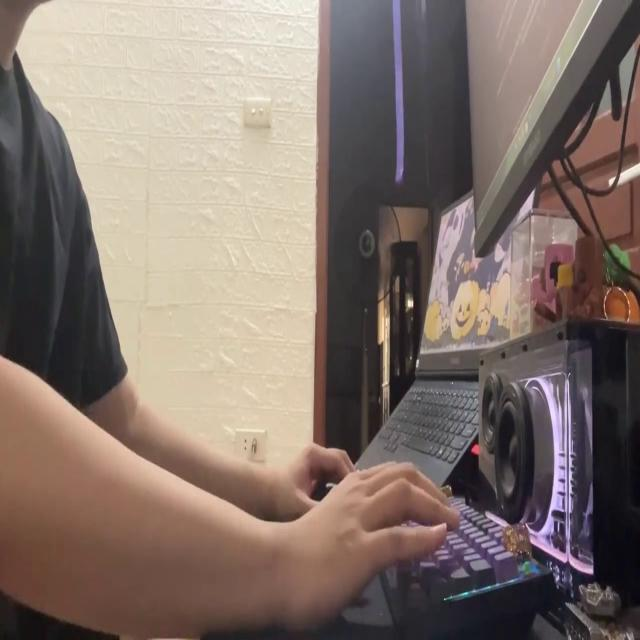laptop: (346, 168, 540, 498), (459, 0, 640, 266)
student: (0, 0, 459, 640)
